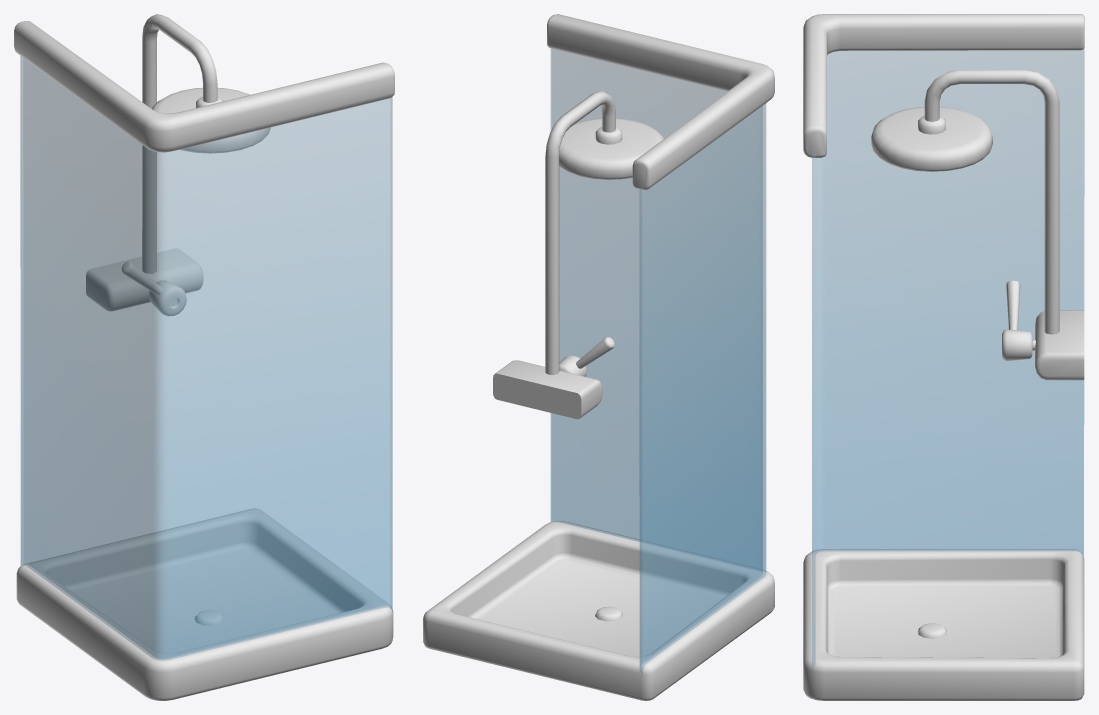
3 renders of one model, left to right at view 1: azimuth 30°, elevation 25°; view 2: azimuth 150°, elevation 25°; view 3: azimuth 270°, elevation 25°, orthographic. The views are drawn at different scales.
Visible parts, largest first — view 1: Shower_02; view 2: Shower_02; view 3: Shower_02.
Boxes of the visible parts, box(x1,y1,x2,y2) form: Shower_02: box(14, 14, 394, 700); Shower_02: box(423, 14, 774, 700); Shower_02: box(803, 14, 1084, 700).
Size of the model in its own units: 0.8 by 1.8 by 0.8011.
2 materials, 1 textured.
